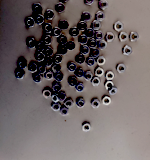nut: (26, 38, 37, 49), (55, 3, 66, 13), (45, 9, 55, 20), (32, 4, 43, 14), (34, 15, 45, 25), (25, 18, 36, 28), (96, 11, 106, 22), (82, 11, 92, 22), (67, 62, 77, 73), (84, 71, 94, 82), (92, 20, 102, 31), (98, 40, 108, 51), (85, 28, 96, 38), (17, 60, 27, 70), (15, 70, 25, 80), (33, 74, 43, 84), (28, 63, 38, 73), (35, 52, 45, 62), (43, 35, 53, 45), (43, 23, 53, 33), (59, 20, 69, 30), (70, 27, 80, 37), (99, 0, 109, 10), (106, 32, 116, 42), (115, 22, 125, 32), (119, 32, 129, 42), (130, 32, 140, 42), (123, 46, 133, 56), (117, 64, 127, 74), (97, 56, 107, 66), (106, 71, 116, 81), (95, 68, 105, 78), (86, 57, 96, 67), (76, 55, 86, 65), (58, 46, 68, 56), (66, 41, 76, 51), (58, 35, 68, 45), (52, 27, 62, 37), (76, 98, 86, 108), (91, 99, 101, 109), (75, 68, 85, 78), (109, 86, 119, 96), (44, 47, 54, 57), (53, 54, 63, 64), (54, 72, 64, 82), (52, 64, 62, 74), (53, 83, 63, 93), (95, 31, 105, 41), (79, 35, 89, 45), (89, 39, 99, 49), (78, 21, 88, 31), (82, 123, 92, 133), (103, 96, 112, 106), (76, 83, 85, 93), (69, 77, 78, 87), (92, 77, 101, 87), (105, 81, 115, 90), (43, 89, 52, 99), (91, 48, 100, 58), (81, 45, 90, 55), (45, 71, 54, 80), (38, 65, 47, 74), (52, 103, 61, 112), (65, 100, 74, 109), (58, 93, 67, 102), (51, 94, 60, 103), (60, 108, 70, 116), (37, 41, 45, 51), (44, 58, 52, 67), (85, 0, 95, 5), (60, 1, 70, 2)
